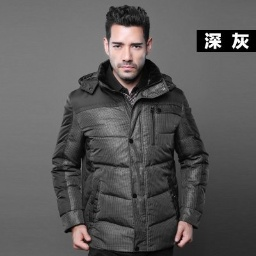face: (101, 6, 154, 80)
